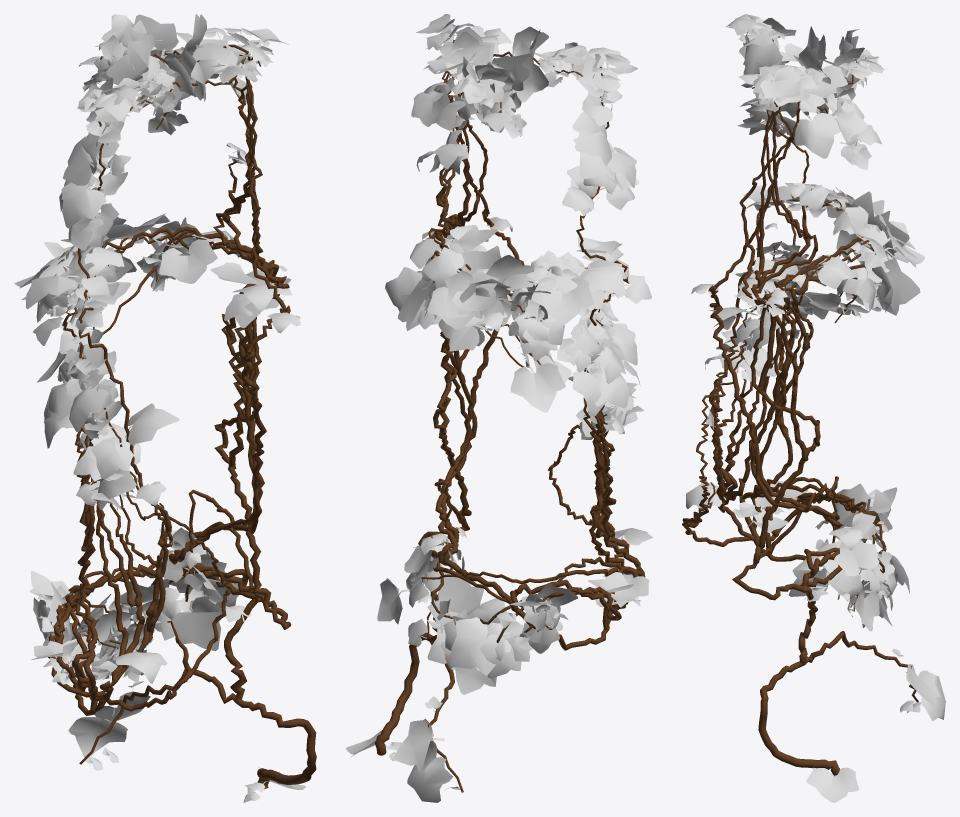
The model's file is garden_pillar_ivy_01.fbx.
3 renders of one model, left to right at view 1: azimuth 30°, elevation 25°; view 2: azimuth 150°, elevation 25°; view 3: azimuth 270°, elevation 25°, orthographic. The views are drawn at different scales.
Parts seen in each view (by area): view 1: IVY_Curve.004; view 2: IVY_Curve.004; view 3: IVY_Curve.004.
Part boxes in pixels (x1,y1,x2,y2): IVY_Curve.004: (14,14,316,802); IVY_Curve.004: (345,14,653,802); IVY_Curve.004: (682,14,945,802).
Size of the model in its own units: 3.41 by 8.71 by 2.95.
